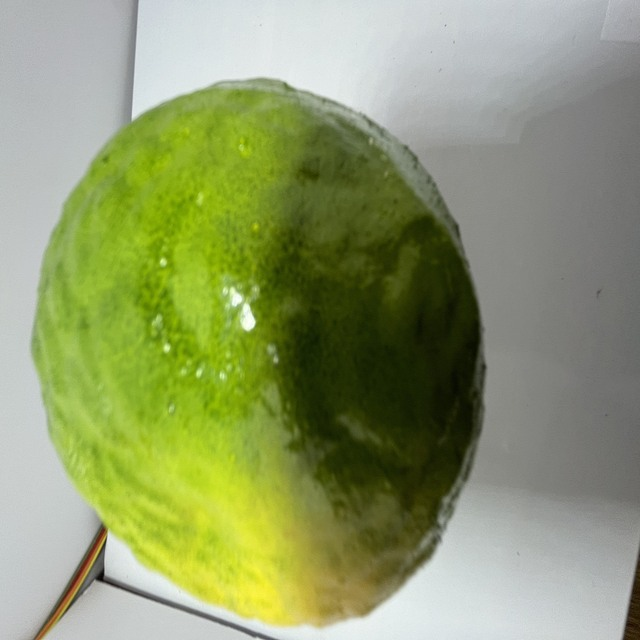Cam xanh: (19, 67, 495, 625)
